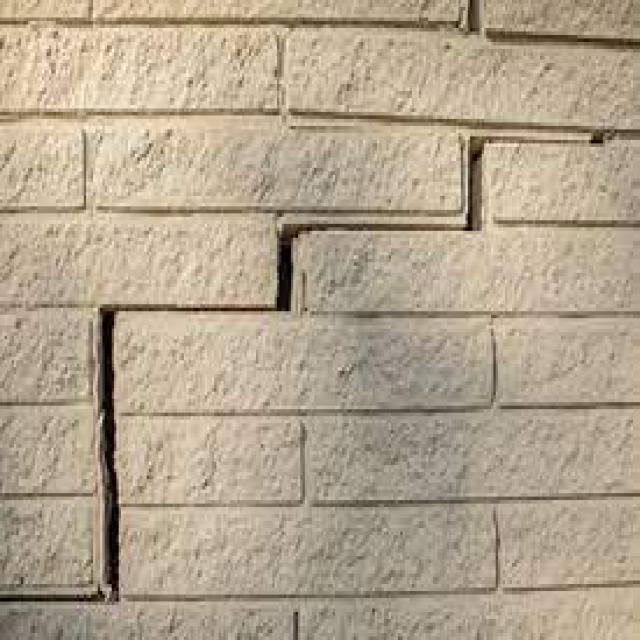Crack: (0, 126, 614, 605)
